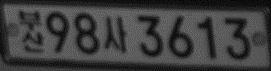1: (196, 15, 221, 58)
3: (137, 13, 164, 56), (224, 17, 251, 60)
6: (167, 16, 193, 58)
8: (73, 12, 99, 54)
9: (46, 10, 70, 53)
부산_V: (18, 9, 45, 53)
사: (103, 15, 129, 53)
